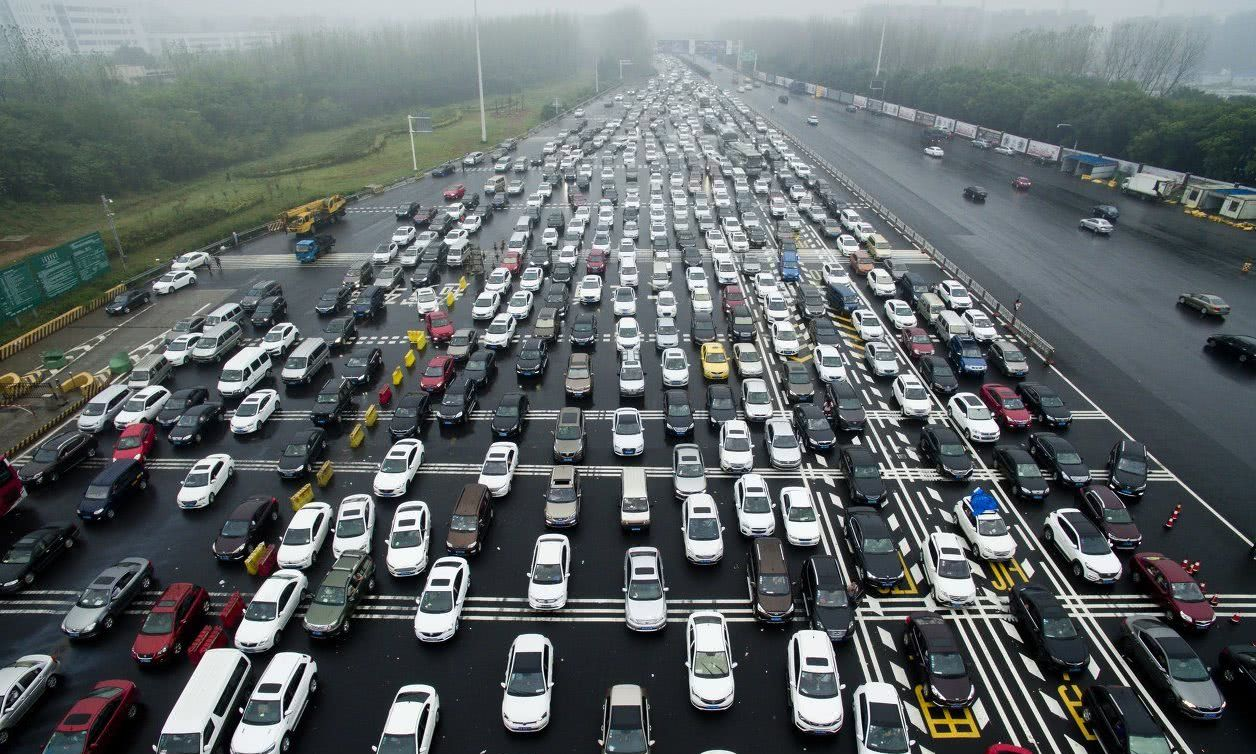car: (1123, 611, 1228, 721), (161, 649, 251, 754), (229, 649, 315, 754), (901, 607, 977, 709), (59, 556, 150, 641), (1008, 582, 1091, 672), (44, 677, 140, 754), (1076, 680, 1174, 754), (300, 549, 376, 642), (1129, 549, 1216, 630), (1042, 502, 1123, 588), (1, 521, 88, 601), (784, 627, 847, 736), (231, 568, 308, 654), (132, 584, 211, 665), (1, 648, 60, 754), (682, 609, 740, 713), (497, 631, 552, 735), (841, 503, 906, 588), (849, 680, 917, 754), (413, 556, 470, 644), (372, 684, 443, 754), (951, 487, 1017, 562), (800, 552, 856, 639), (917, 530, 977, 610), (1077, 482, 1142, 555), (595, 683, 658, 754), (748, 534, 794, 630), (620, 545, 670, 633), (525, 532, 572, 614), (681, 492, 727, 564), (1222, 637, 1256, 721), (1106, 436, 1149, 497), (1203, 331, 1256, 375), (1177, 289, 1230, 316), (985, 738, 1033, 754)
microbus: (447, 484, 494, 556), (214, 343, 272, 396), (280, 335, 330, 388), (617, 468, 654, 533)
suv: (309, 378, 352, 426), (516, 337, 550, 379), (937, 279, 973, 311)
truck: (295, 231, 335, 264)
